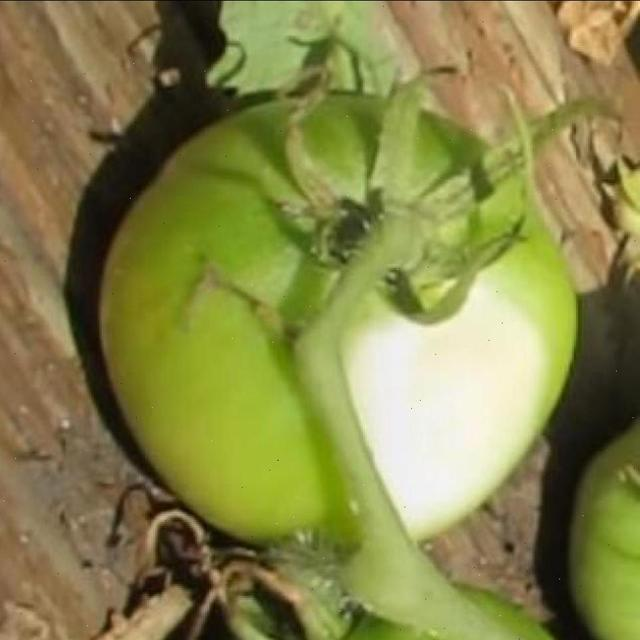Sunscald Fruit: (215, 192, 375, 365)
